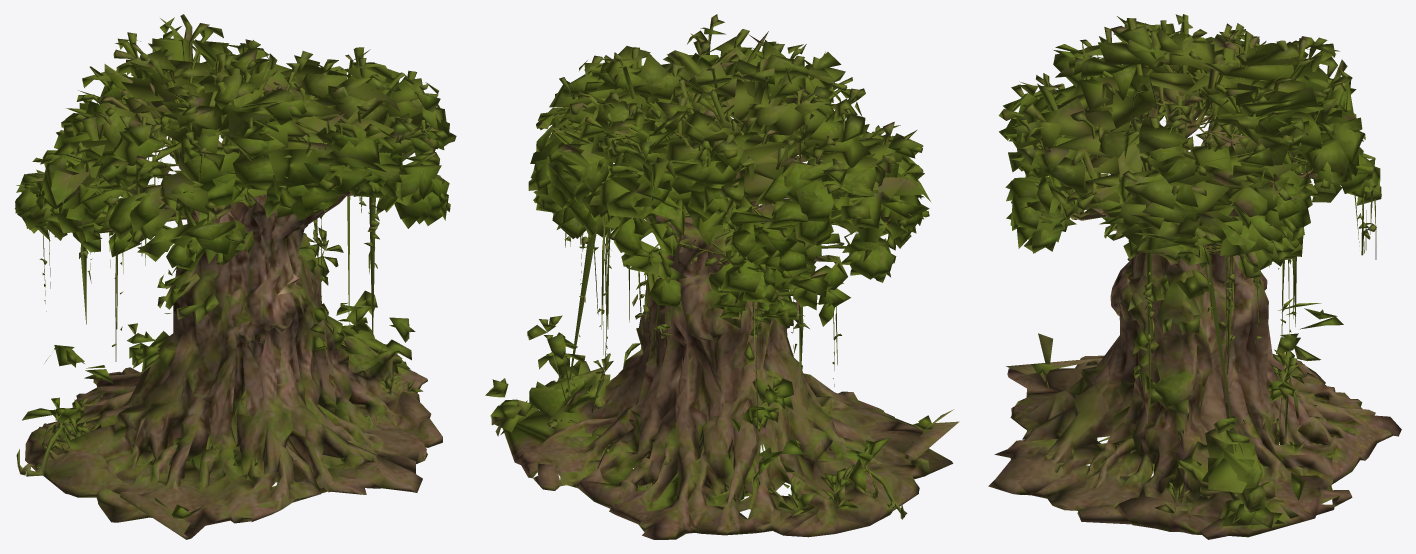
File: tree-ancient.glb
3 renders of one model, left to right at view 1: azimuth 30°, elevation 25°; view 2: azimuth 150°, elevation 25°; view 3: azimuth 270°, elevation 25°, orthographic. The views are drawn at different scales.
Bounding box in the file's own units: 0.9561 × 0.8847 × 0.8188.
Materials: 1 (1 with a texture image).
